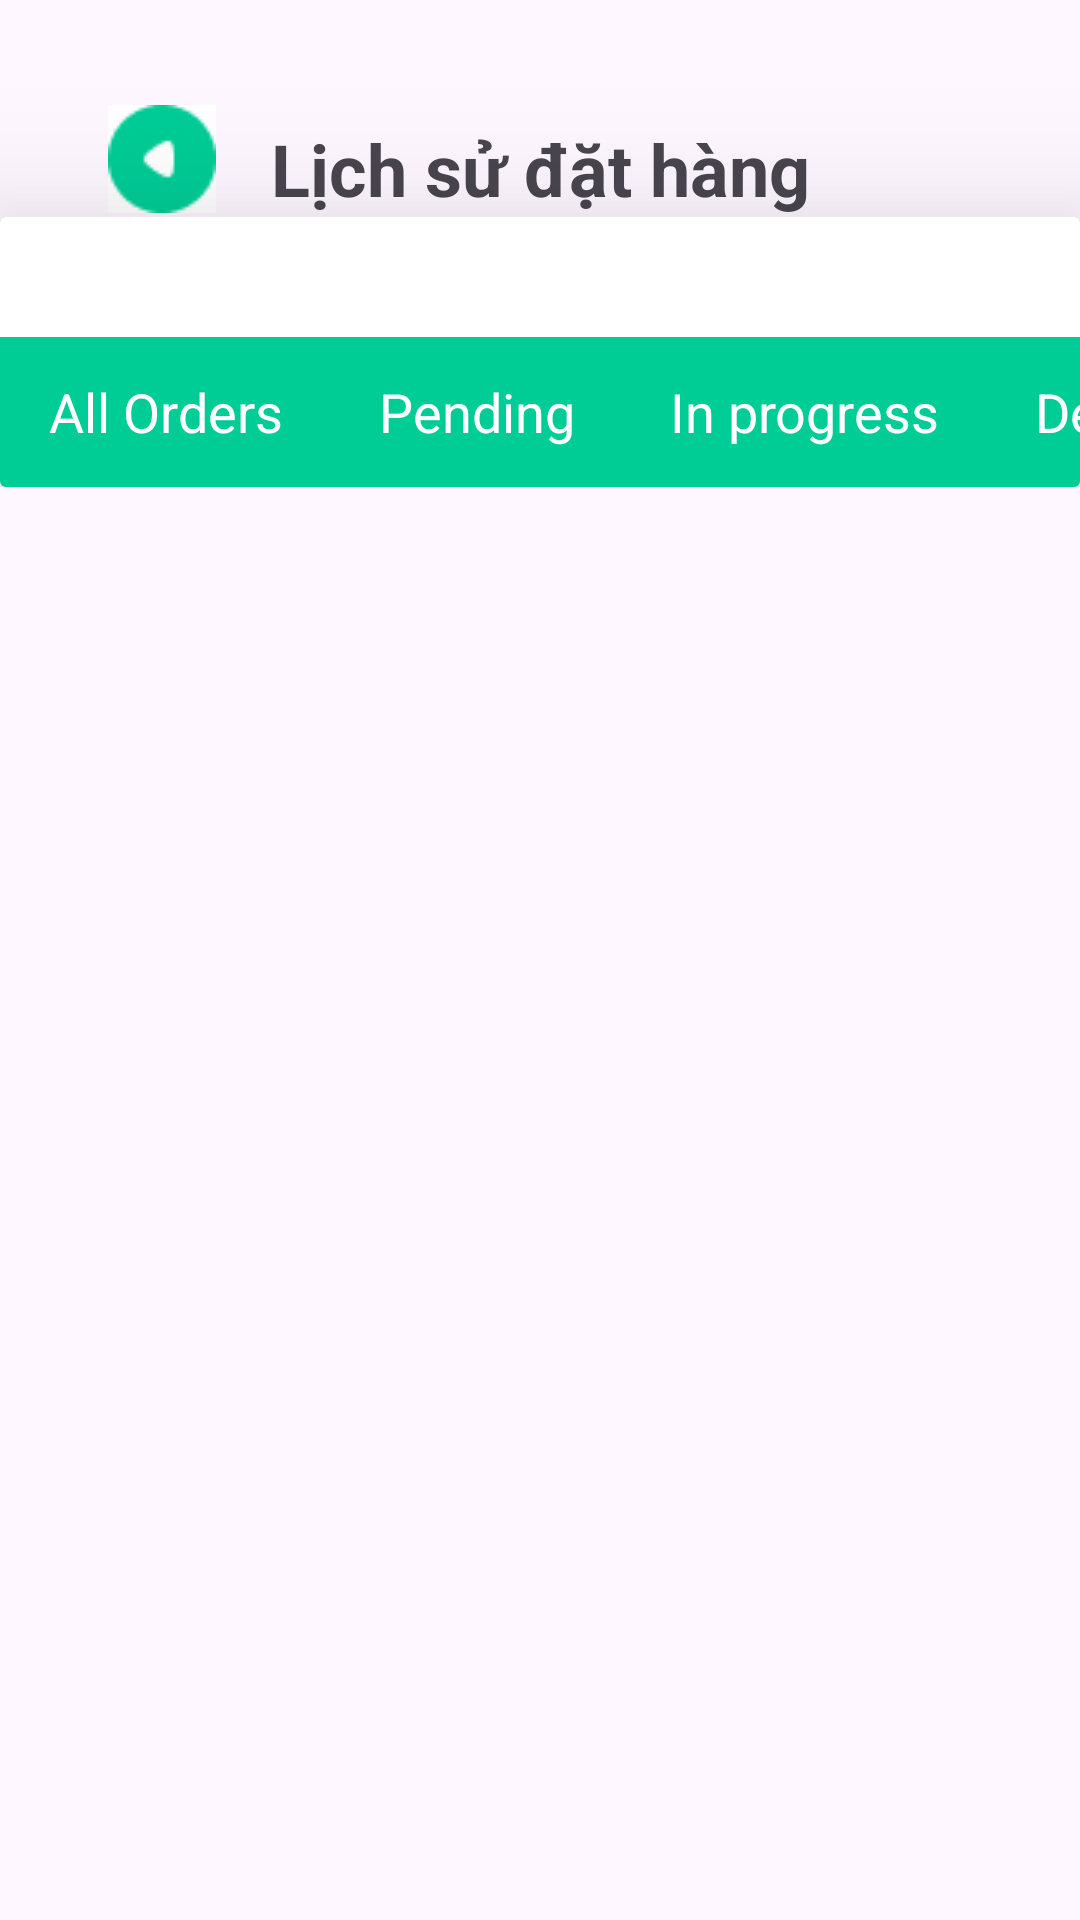

Icons on this 1080w x 1920h Android screen, each with its box as (x1, y1, x2, y2):
back: (108, 105, 216, 213)
